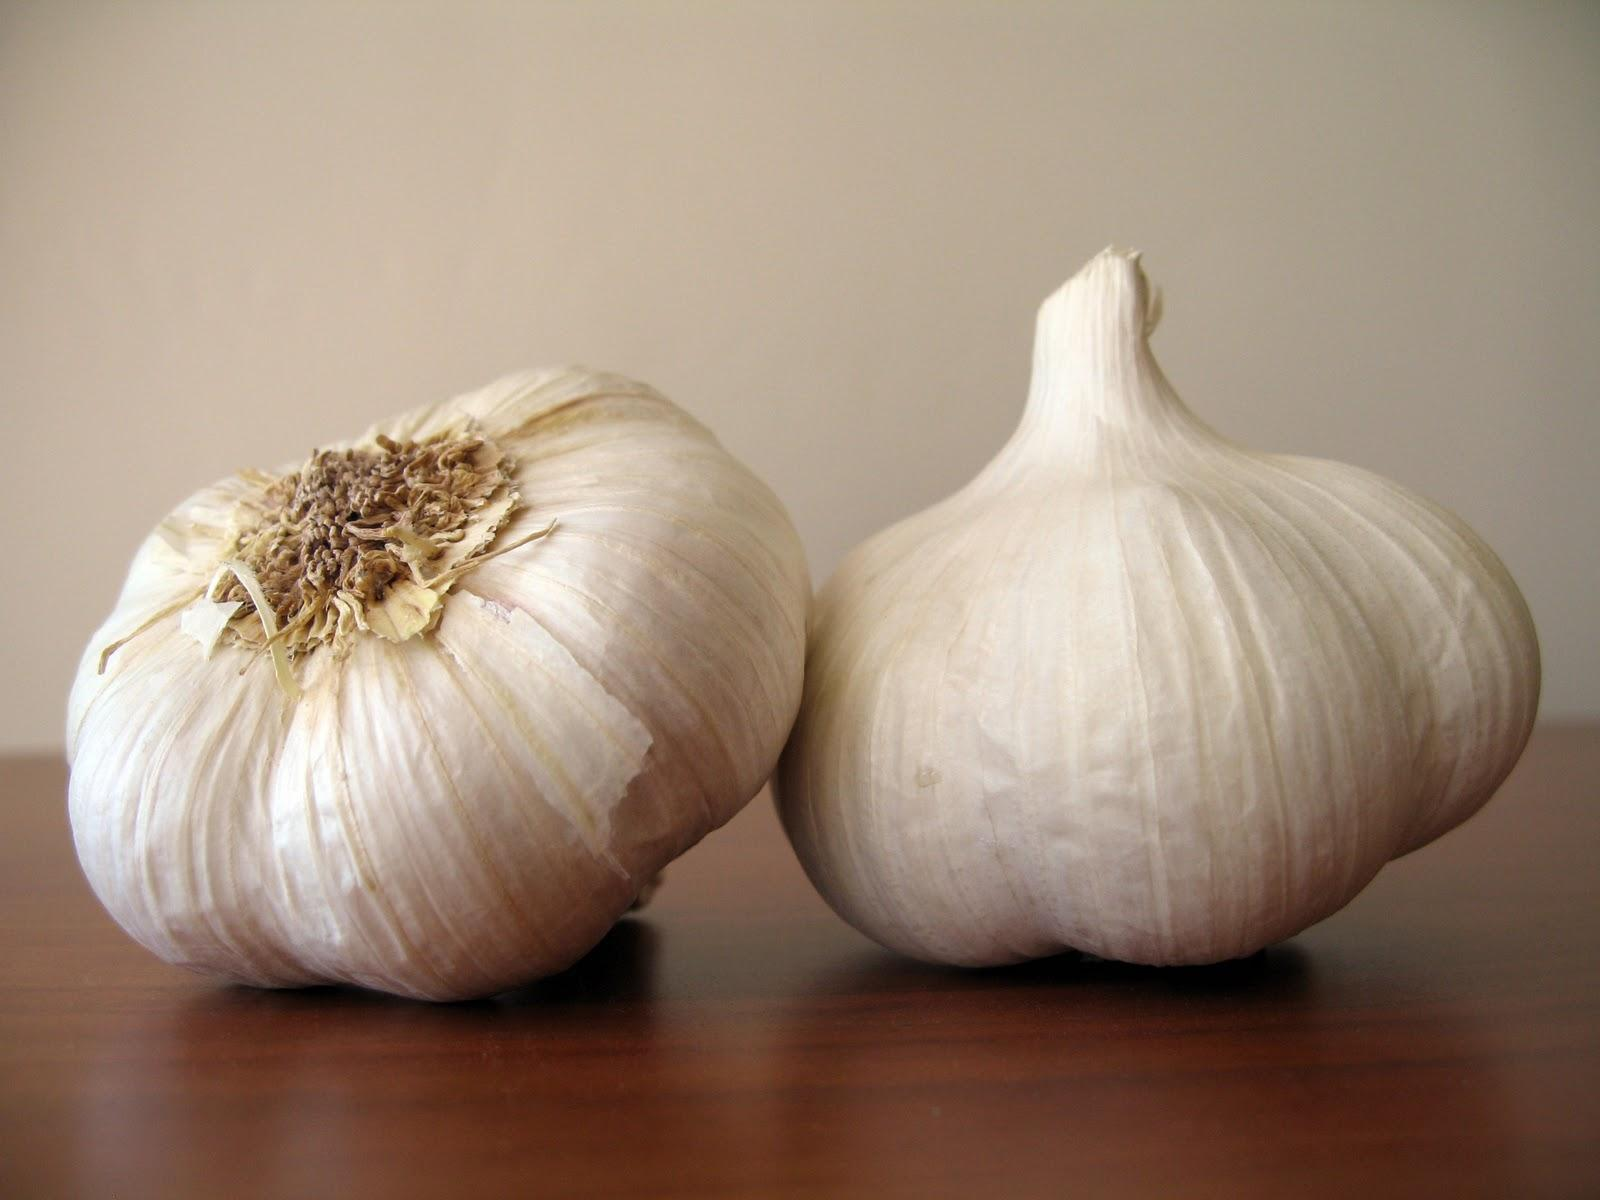garlic: (772, 242, 1541, 971), (63, 361, 814, 1003)
